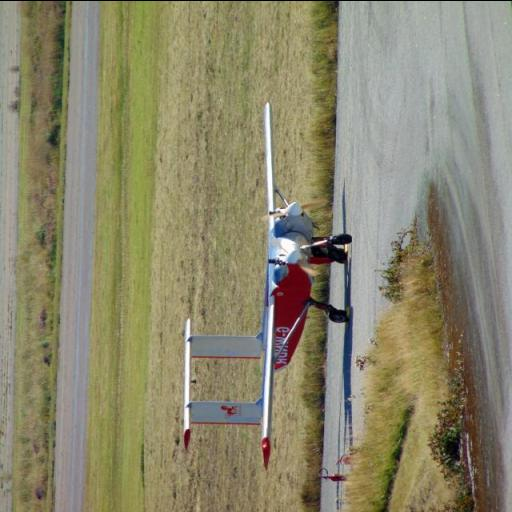uav: (184, 95, 352, 471)
